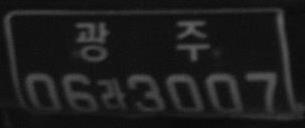0: (205, 72, 244, 116), (166, 73, 204, 113), (25, 71, 61, 112)
3: (127, 72, 166, 113)
6: (62, 72, 97, 112)
7: (245, 71, 278, 114)
광주_D: (76, 18, 209, 63)
라: (98, 77, 126, 110)
